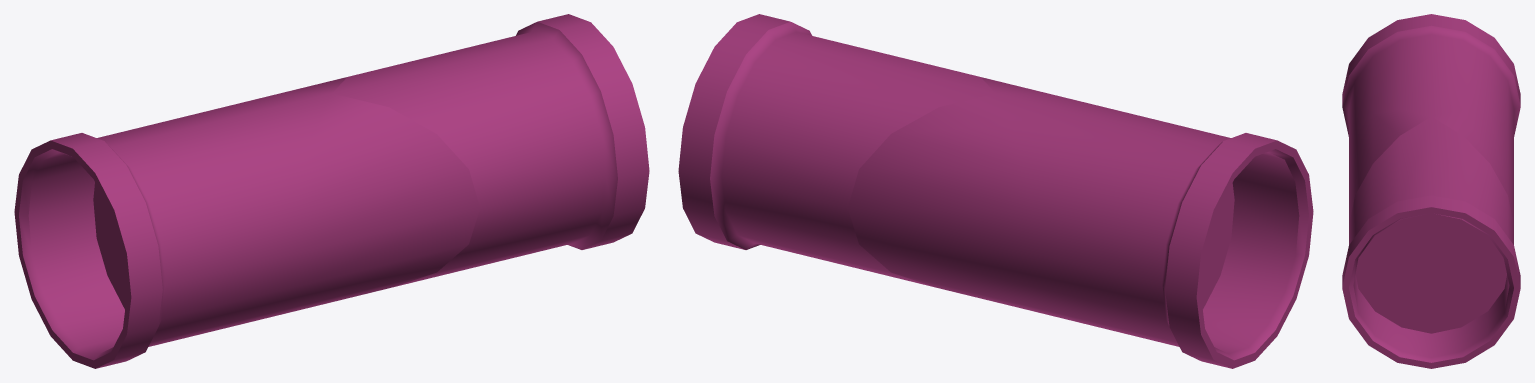
The model's file is Pipe_5_Junction.fbx.
3 views of the same model, side by side, from view 1: azimuth 30°, elevation 25°; view 2: azimuth 150°, elevation 25°; view 3: azimuth 270°, elevation 25° (orthographic). The views are drawn at different scales.
Parts seen in each view (by area): view 1: Pipe_5_Junction; view 2: Pipe_5_Junction; view 3: Pipe_5_Junction.
Part boxes in pixels (box(x1,y1,x2,y2)): Pipe_5_Junction: box(14, 14, 649, 368); Pipe_5_Junction: box(678, 14, 1313, 368); Pipe_5_Junction: box(1342, 14, 1520, 368).
Bounding box in the file's own units: 14.13 × 5.52 × 5.53.
